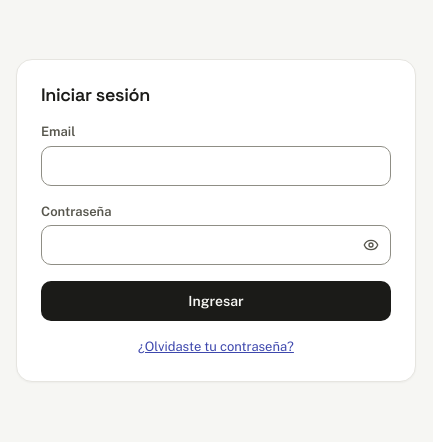
Test: LoginPage — mensajes de Supabase en castellano › demasiados intentos (429 de Supabase) se muestra en castellano
Type "a@example.com" into the field labelled "Email" at (216, 166), box [41, 146, 391, 186]
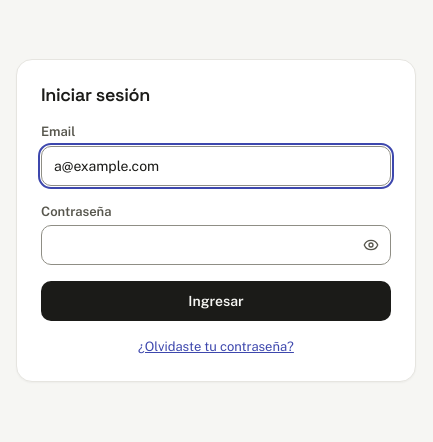
Type "wrong" into the password field labelled "Contraseña" at (216, 245), box [41, 225, 391, 265]
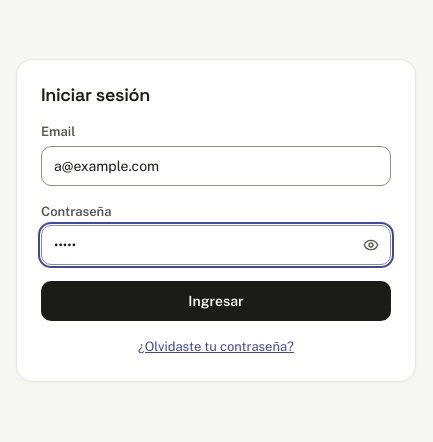
Click the button "Ingresar" at (216, 301), box [41, 281, 391, 321]
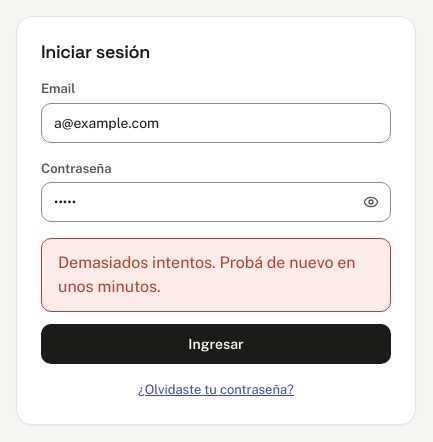
Result: the message reads "Demasiados intentos. Probá de nuevo en unos minutos." at [58, 253, 356, 296]
